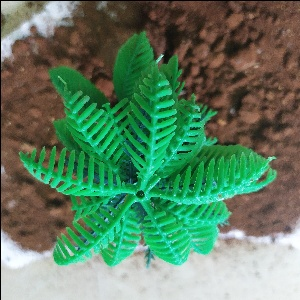plant: (25, 44, 271, 272)
